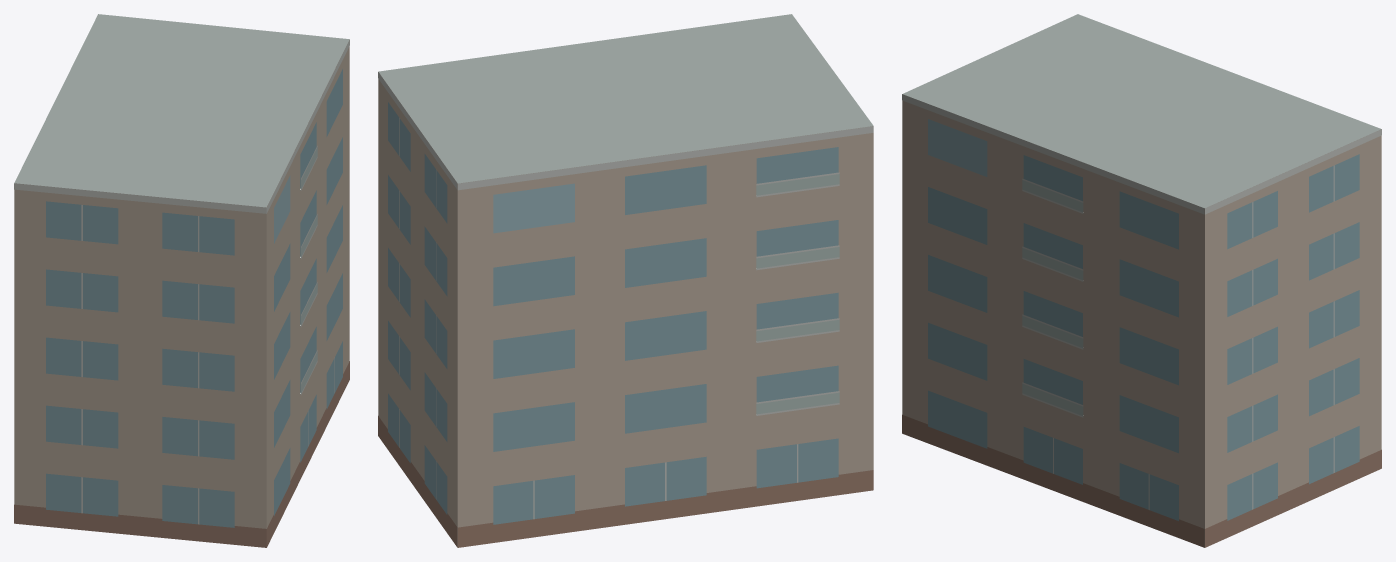
The model's file is survey-upis-32990935.glb.
3 renders of one model, left to right at view 1: azimuth 30°, elevation 25°; view 2: azimuth 150°, elevation 25°; view 3: azimuth 270°, elevation 25°, orthographic. The views are drawn at different scales.
Visible parts, largest first — view 1: survey-upis-32990935.tmp; view 2: survey-upis-32990935.tmp; view 3: survey-upis-32990935.tmp.
Part boxes in pixels (x1,y1,x2,y2): survey-upis-32990935.tmp: (14, 14, 349, 547); survey-upis-32990935.tmp: (378, 14, 873, 547); survey-upis-32990935.tmp: (902, 14, 1381, 547).
Size of the model in its own units: 16 by 13.03 by 16.68.
